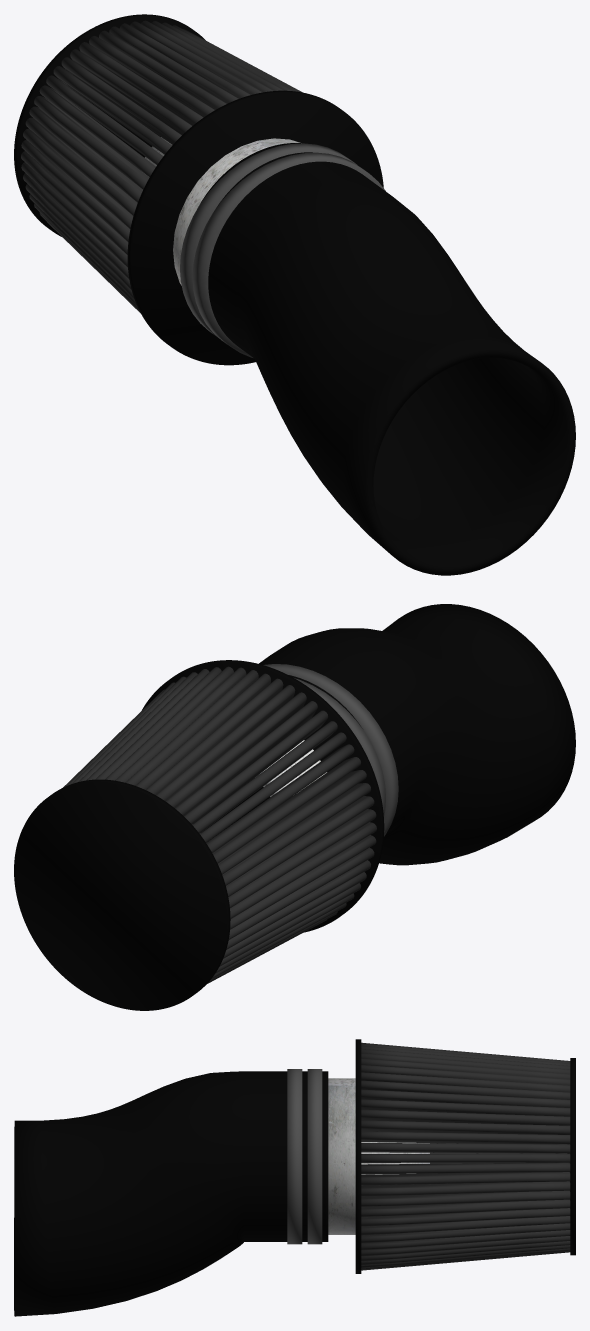
File: turboSmall_airfilter.obj
3 renders of one model, top to bottom at view 1: azimuth 30°, elevation 25°; view 2: azimuth 150°, elevation 25°; view 3: azimuth 270°, elevation 25°, orthographic. The views are drawn at different scales.
Parts seen in each view (by area): view 1: TurboSmall-Airfilter-Rubber_BezierCurve.010, TurboSmall-Airfilter-Filter_Airfilter.001, TurboSmall-Airfilter-Bottom_Airfilter-Bottom.001, TurboSmall-Airfilter-Rubber-Connector1_Cylinder.014, TurboSmall-Airfilter-Rubber-Connector2_Cylinder.013, TurboSmall-Airfilter-Top_Airfilter-Top.001, TurboSmall-Airfilter-Connector_Cylinder.012; view 2: TurboSmall-Airfilter-Filter_Airfilter.001, TurboSmall-Airfilter-Rubber_BezierCurve.010, TurboSmall-Airfilter-Top_Airfilter-Top.001, TurboSmall-Airfilter-Bottom_Airfilter-Bottom.001, TurboSmall-Airfilter-Rubber-Connector1_Cylinder.014, TurboSmall-Airfilter-Rubber-Connector2_Cylinder.013; view 3: TurboSmall-Airfilter-Rubber_BezierCurve.010, TurboSmall-Airfilter-Filter_Airfilter.001, TurboSmall-Airfilter-Connector_Cylinder.012, TurboSmall-Airfilter-Rubber-Connector1_Cylinder.014, TurboSmall-Airfilter-Rubber-Connector2_Cylinder.013, TurboSmall-Airfilter-Bottom_Airfilter-Bottom.001, TurboSmall-Airfilter-Top_Airfilter-Top.001.
Boxes of the visible parts, left/top/right/bottom form: TurboSmall-Airfilter-Rubber_BezierCurve.010: left=198, top=143, right=575, bottom=575; TurboSmall-Airfilter-Filter_Airfilter.001: left=21, top=20, right=302, bottom=313; TurboSmall-Airfilter-Bottom_Airfilter-Bottom.001: left=127, top=90, right=383, bottom=365; TurboSmall-Airfilter-Rubber-Connector1_Cylinder.014: left=192, top=152, right=385, bottom=357; TurboSmall-Airfilter-Rubber-Connector2_Cylinder.013: left=180, top=143, right=356, bottom=337; TurboSmall-Airfilter-Top_Airfilter-Top.001: left=14, top=14, right=205, bottom=236; TurboSmall-Airfilter-Connector_Cylinder.012: left=144, top=137, right=301, bottom=285; TurboSmall-Airfilter-Filter_Airfilter.001: left=63, top=666, right=376, bottom=983; TurboSmall-Airfilter-Rubber_BezierCurve.010: left=259, top=604, right=575, bottom=865; TurboSmall-Airfilter-Top_Airfilter-Top.001: left=14, top=779, right=230, bottom=1010; TurboSmall-Airfilter-Bottom_Airfilter-Bottom.001: left=142, top=660, right=384, bottom=932; TurboSmall-Airfilter-Rubber-Connector1_Cylinder.014: left=263, top=664, right=398, bottom=836; TurboSmall-Airfilter-Rubber-Connector2_Cylinder.013: left=294, top=678, right=385, bottom=816; TurboSmall-Airfilter-Rubber_BezierCurve.010: left=14, top=1071, right=328, bottom=1316; TurboSmall-Airfilter-Filter_Airfilter.001: left=361, top=1042, right=570, bottom=1270; TurboSmall-Airfilter-Connector_Cylinder.012: left=328, top=1078, right=429, bottom=1234; TurboSmall-Airfilter-Rubber-Connector1_Cylinder.014: left=287, top=1069, right=302, bottom=1244; TurboSmall-Airfilter-Rubber-Connector2_Cylinder.013: left=307, top=1069, right=322, bottom=1244; TurboSmall-Airfilter-Bottom_Airfilter-Bottom.001: left=355, top=1039, right=361, bottom=1273; TurboSmall-Airfilter-Top_Airfilter-Top.001: left=570, top=1058, right=575, bottom=1255.
Bounding box in the file's own units: 0.0853 × 0.1031 × 0.2043.
